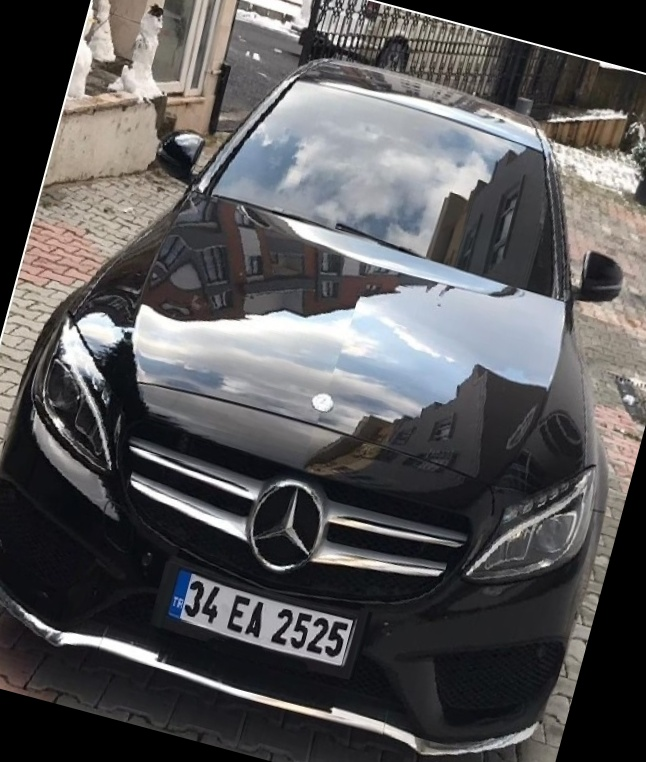plaka: (181, 566, 350, 665)
